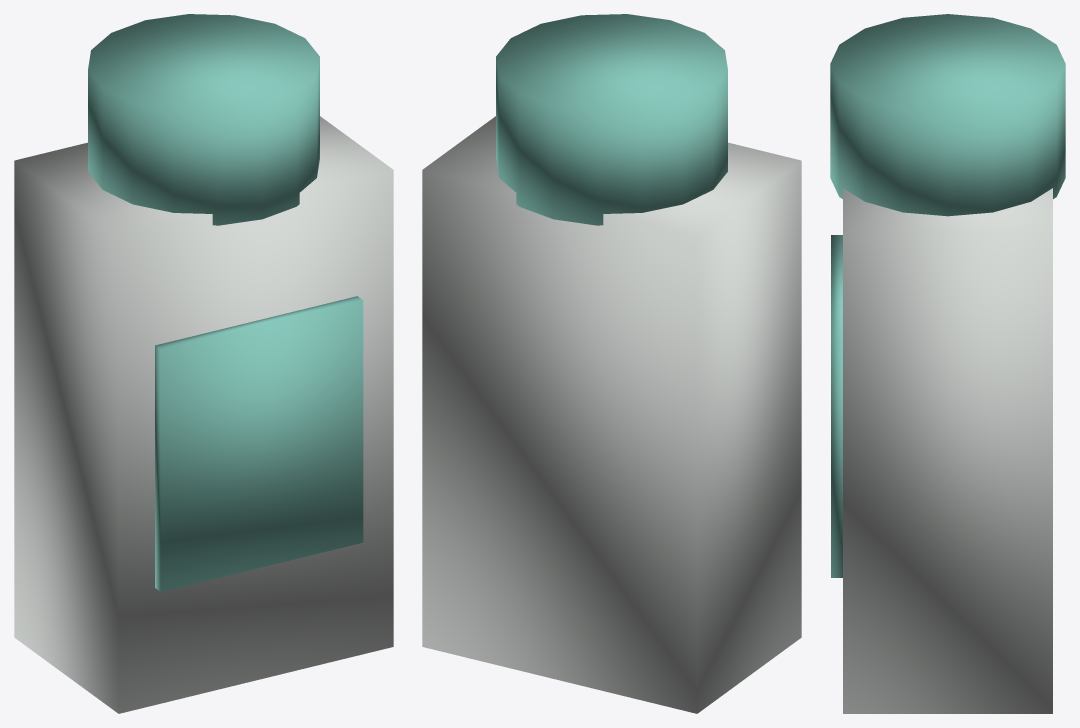
The model's file is tool-cream.glb.
3 views of the same model, side by side, from view 1: azimuth 30°, elevation 25°; view 2: azimuth 150°, elevation 25°; view 3: azimuth 270°, elevation 25° (orthographic).
Visible parts, largest first — view 1: care bottle, bottle label, cap; view 2: care bottle, cap; view 3: care bottle, cap, bottle label.
Part boxes in pixels (x1,y1,x2,y2): care bottle: (14, 116, 393, 713); bottle label: (155, 296, 363, 591); cap: (88, 14, 319, 225); care bottle: (422, 116, 801, 713); cap: (496, 14, 727, 225); care bottle: (843, 188, 1052, 713); cap: (830, 14, 1065, 216); bottle label: (831, 235, 842, 577).
Size of the model in its own units: 0.38 by 0.765 by 0.28.
